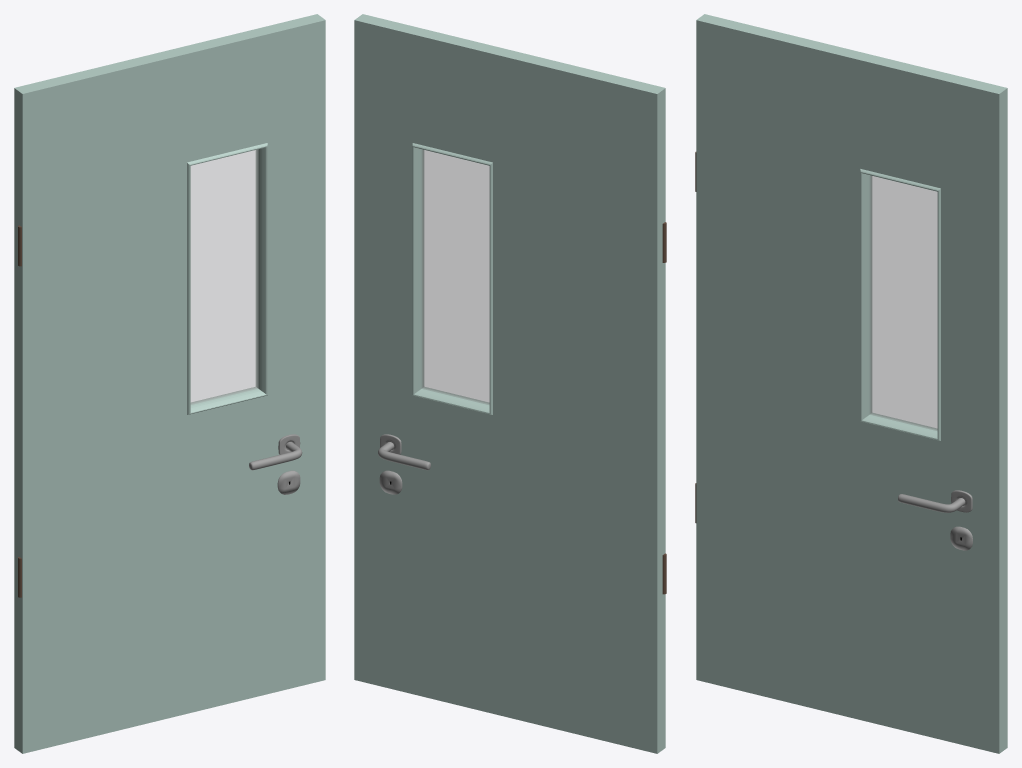
The model's file is reception_door.fbx.
The picture shows the model from 3 angles, left to right: view 1: azimuth 30°, elevation 25°; view 2: azimuth 150°, elevation 25°; view 3: azimuth 330°, elevation 25°; orthographic projection.
Visible parts, largest first — view 1: reception_door, door_window, Plane.007; view 2: reception_door, door_window, Plane.007; view 3: reception_door, door_window, Plane.007.
Part boxes in pixels (x1=…): reception_door: x1=14, y1=14, x2=325, y2=753; door_window: x1=190, y1=149, x2=258, y2=404; Plane.007: x1=249, y1=434, x2=302, y2=494; reception_door: x1=354, y1=14, x2=665, y2=753; door_window: x1=422, y1=149, x2=489, y2=404; Plane.007: x1=378, y1=434, x2=430, y2=494; reception_door: x1=696, y1=14, x2=1007, y2=753; door_window: x1=870, y1=175, x2=937, y2=430; Plane.007: x1=898, y1=490, x2=972, y2=550.
Bounding box in the file's own units: 109 × 224 × 22.96.
